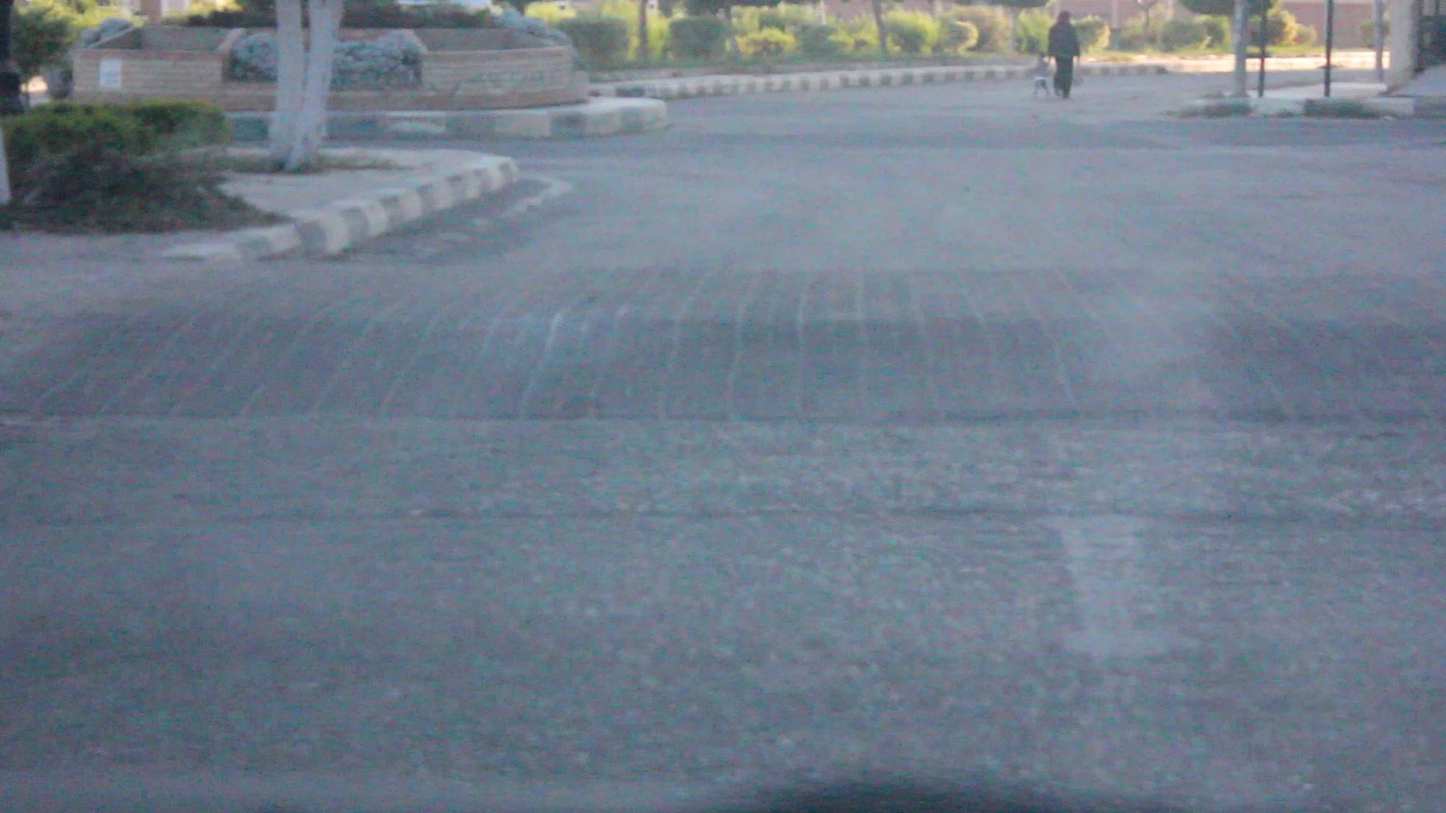Bump: (15, 263, 1438, 422)
